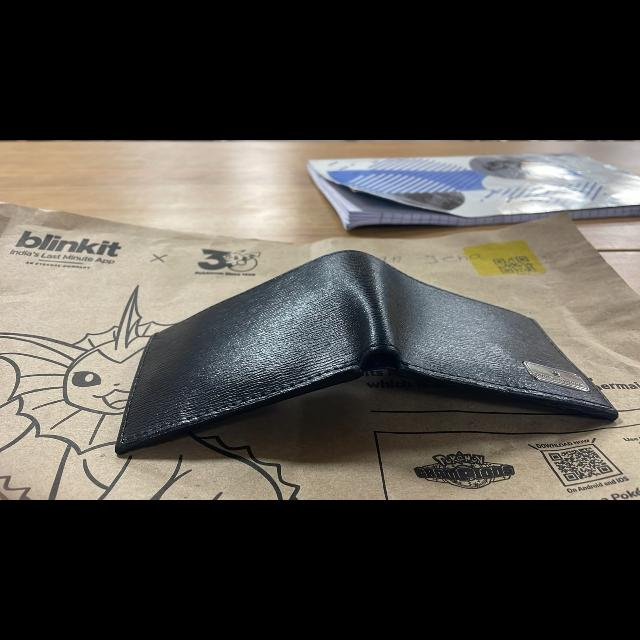wallet: (107, 232, 640, 470)
